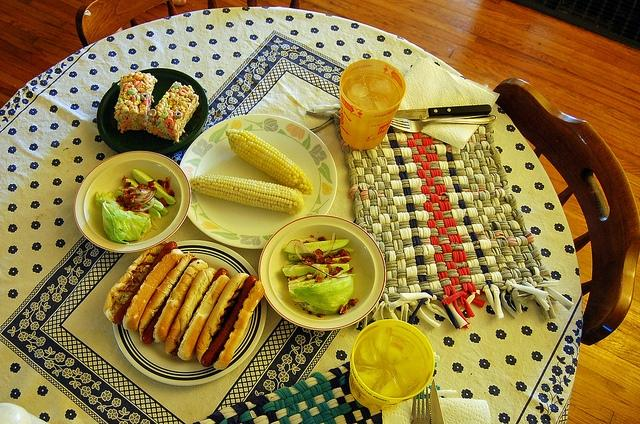corn: (225, 130, 314, 196), (188, 174, 304, 214)
